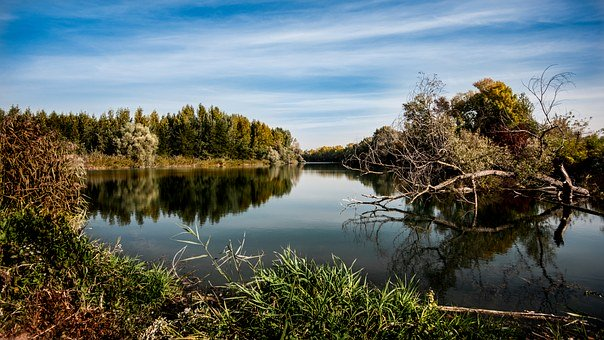forest: (16, 248, 421, 340), (11, 111, 299, 170)
lake: (117, 185, 604, 292)
sky: (2, 1, 604, 107)
tree: (372, 135, 591, 204), (462, 78, 548, 182)
